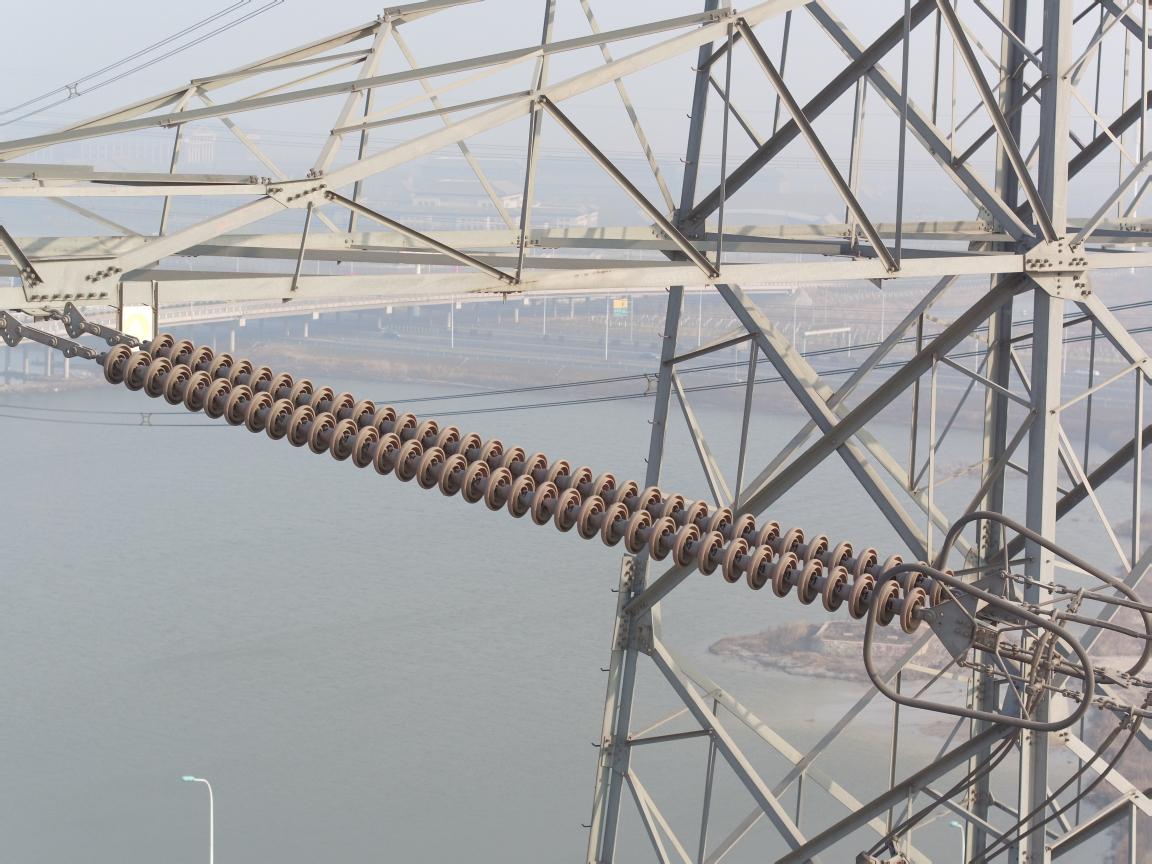insulator: (83, 324, 959, 637)
